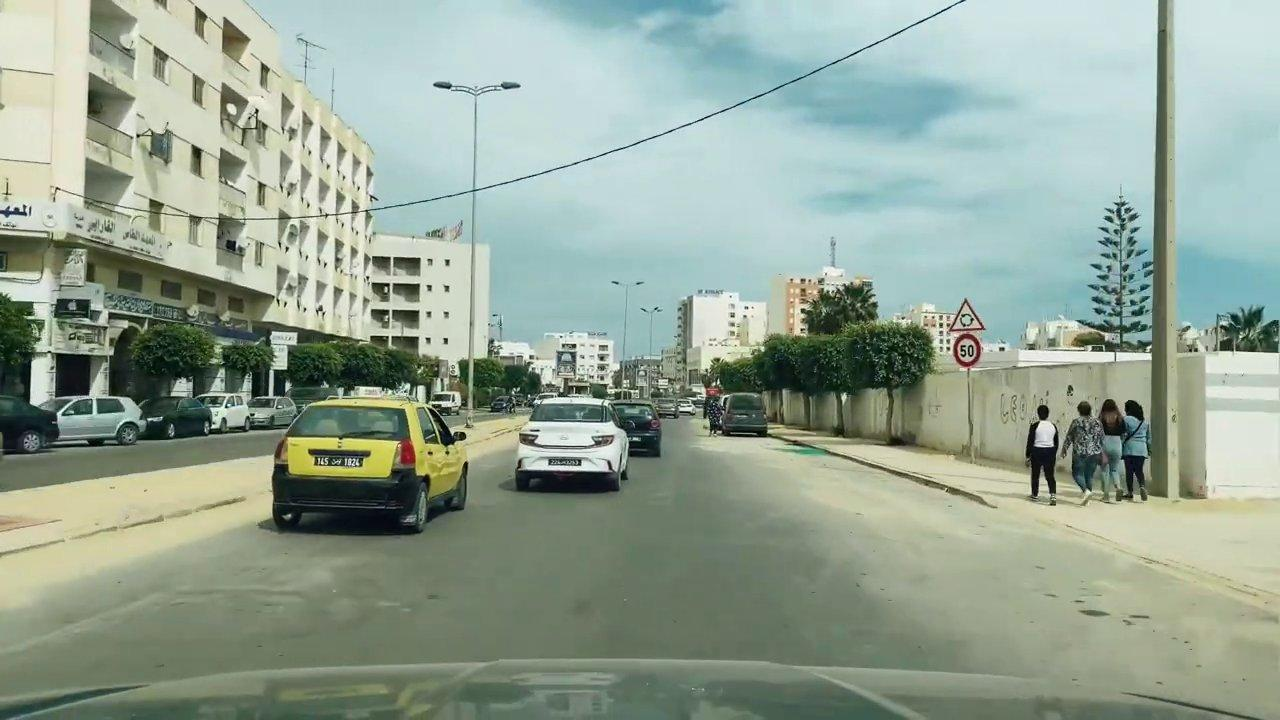roundabout: (945, 299, 987, 332)
speed limit 50: (952, 336, 983, 368)
